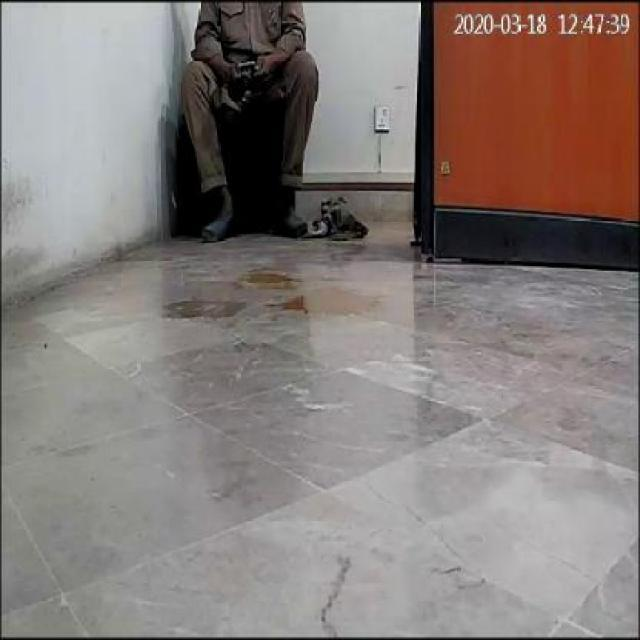spill: (284, 282, 382, 313), (248, 266, 300, 289)
